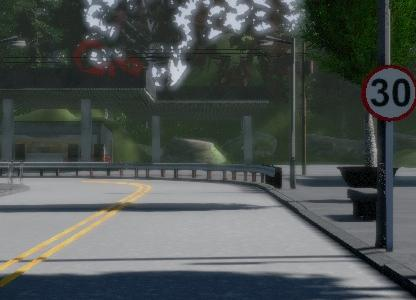Speed_30: (359, 62, 416, 124)
